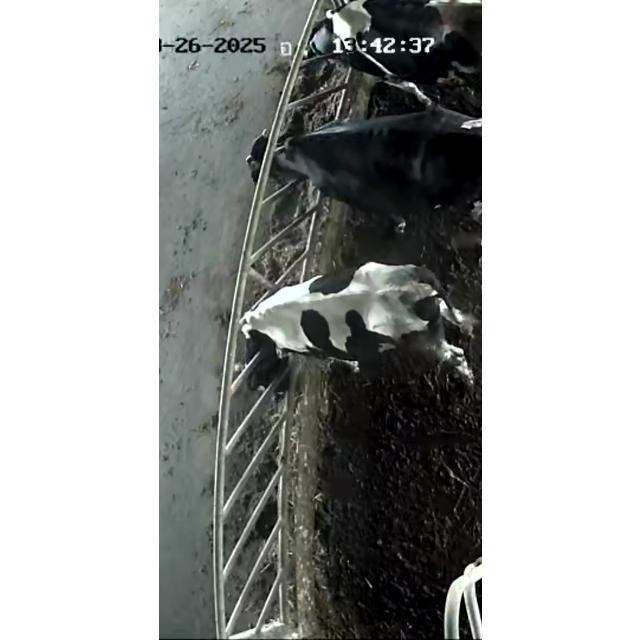eat: (190, 268, 346, 384), (205, 106, 373, 200), (246, 0, 408, 70)
